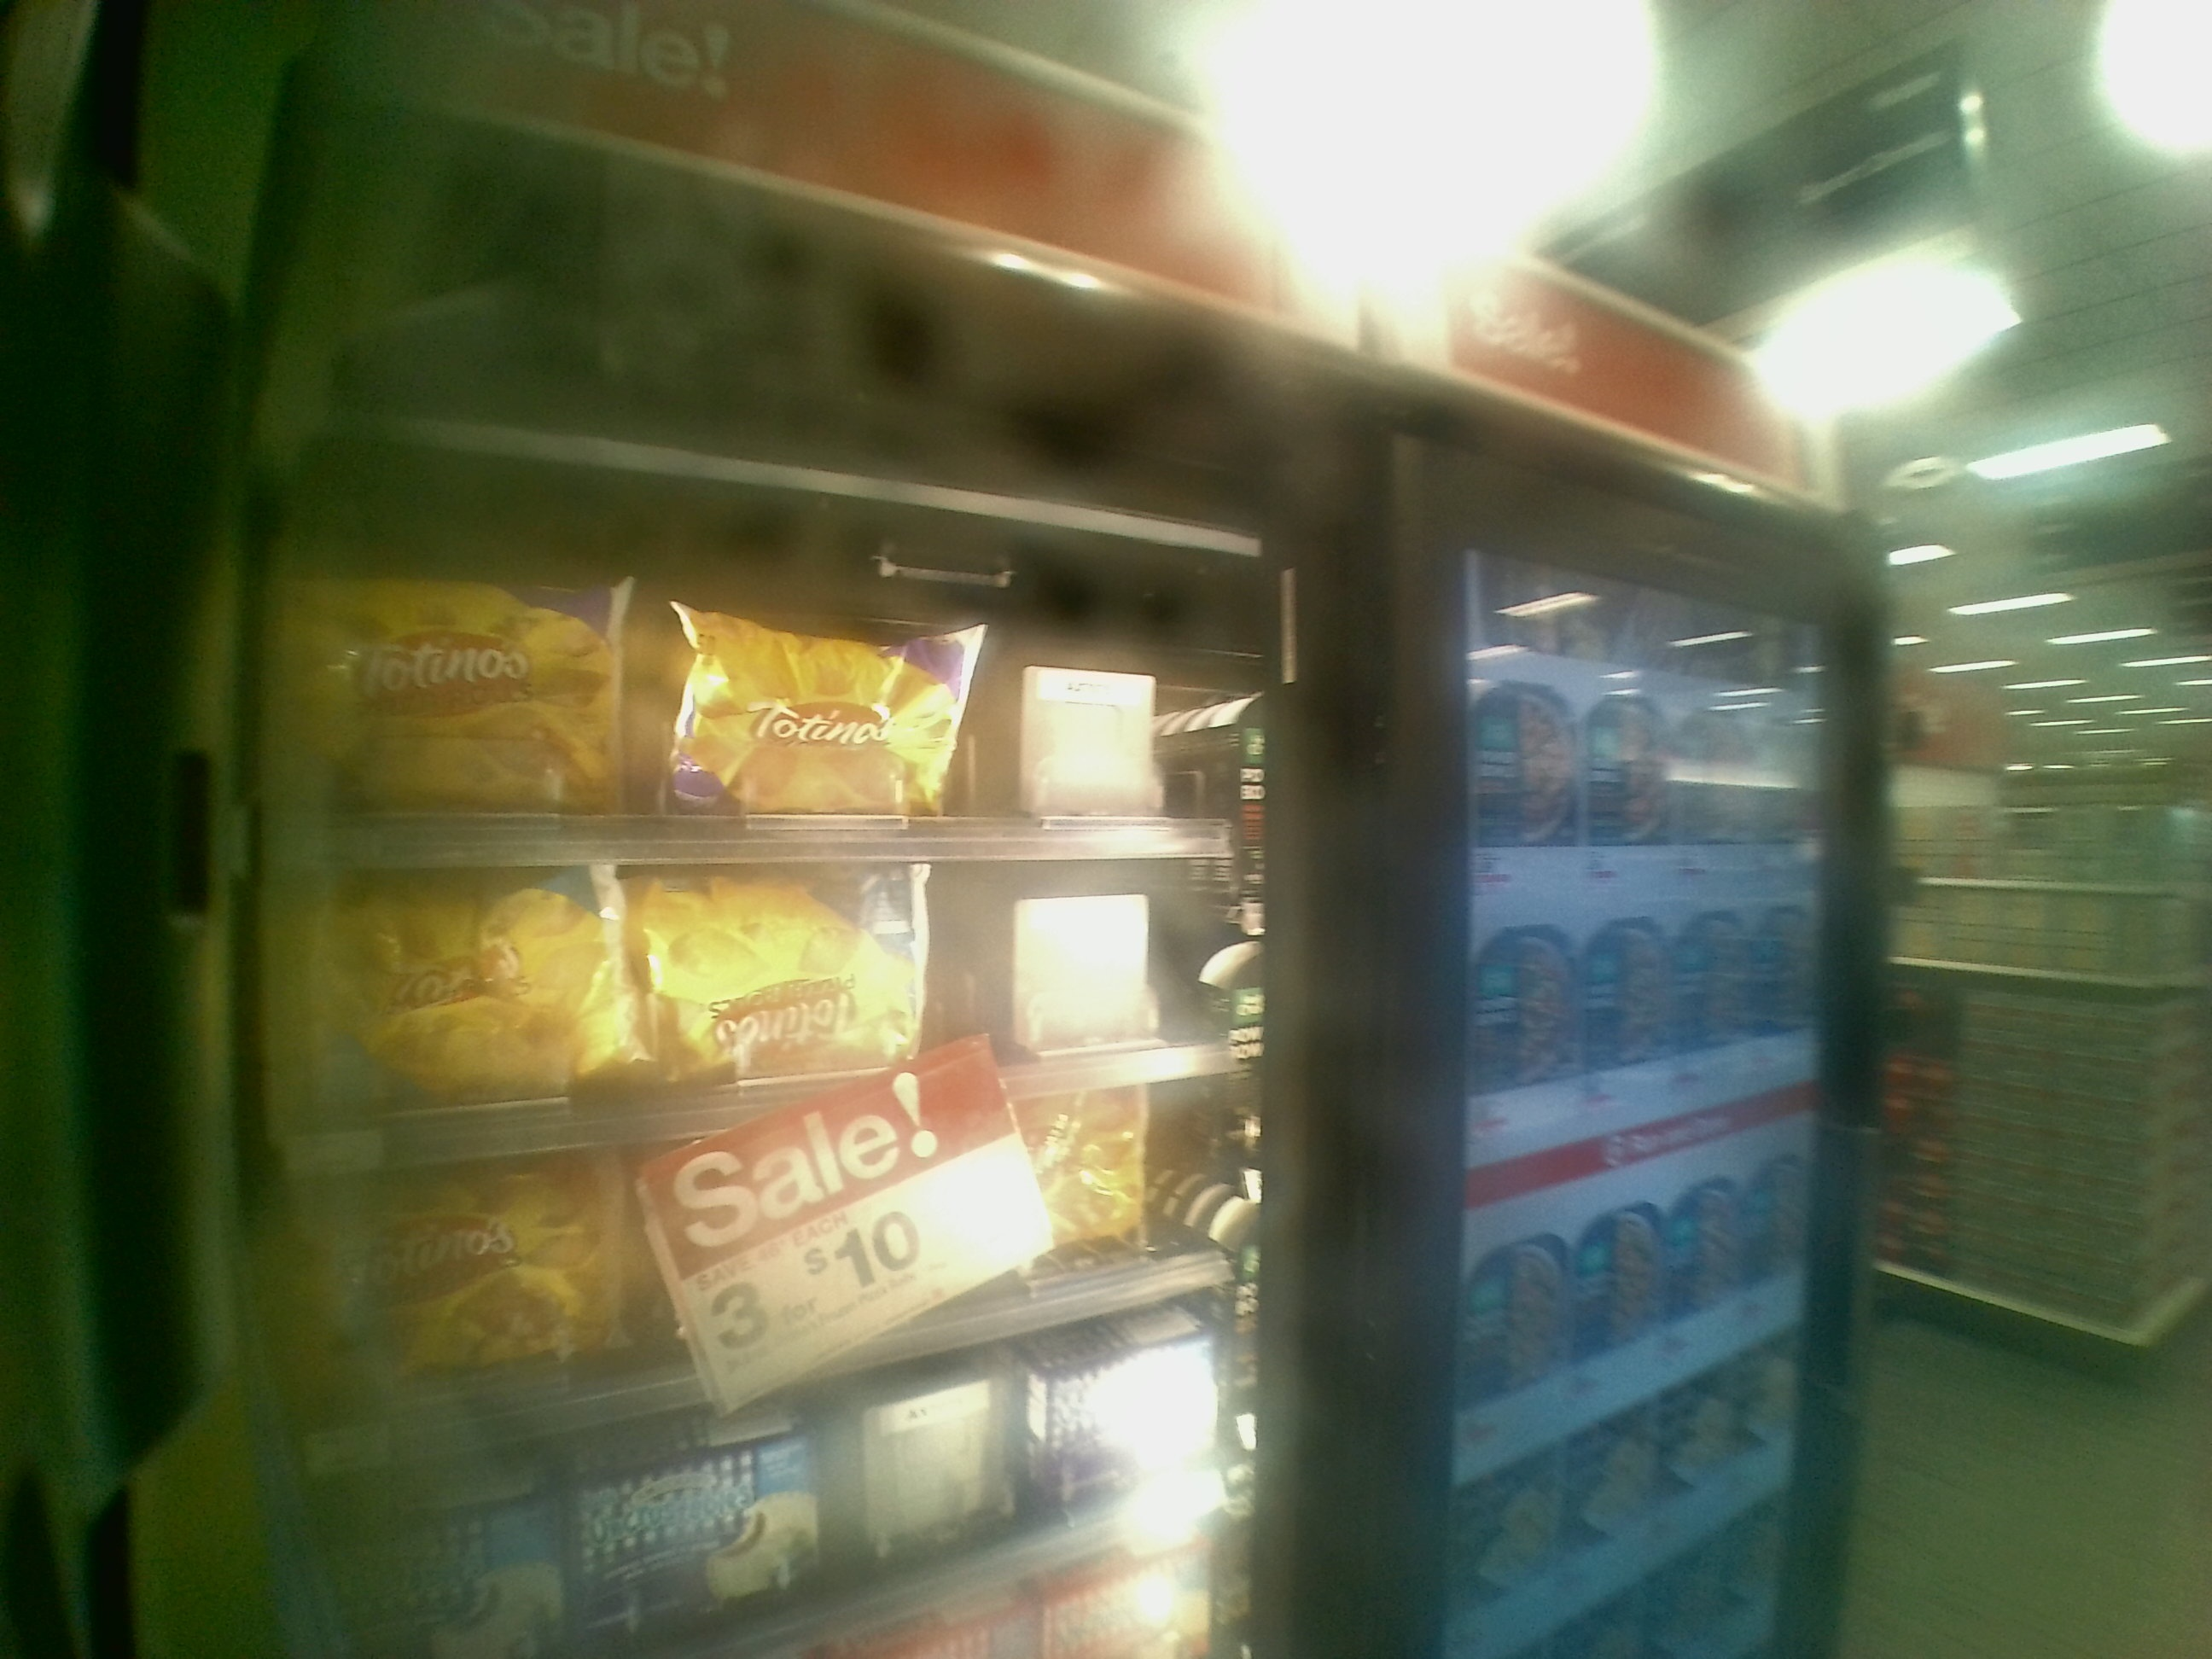shelf: (270, 486, 1270, 870)
